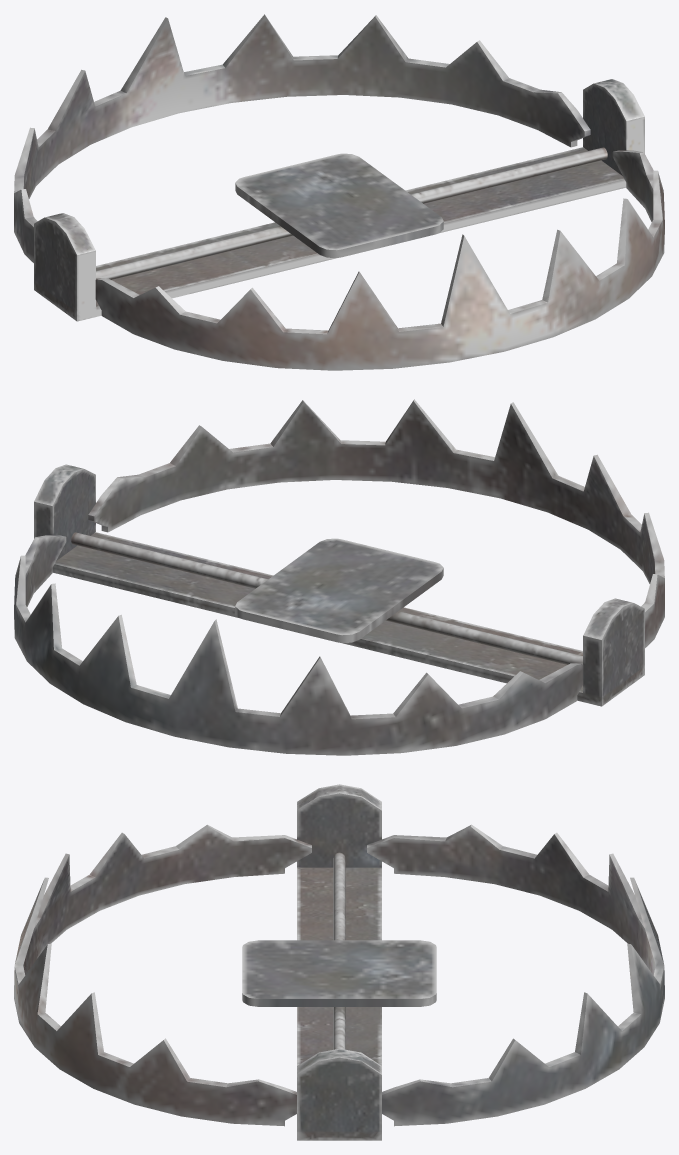
The model's file is 68_ELM_BearTrap.fbx.
3 renders of one model, top to bottom at view 1: azimuth 30°, elevation 25°; view 2: azimuth 150°, elevation 25°; view 3: azimuth 270°, elevation 25°, orthographic.
Visible parts, largest first — view 1: Bear_Trap; view 2: Bear_Trap; view 3: Bear_Trap.
Part boxes in pixels (x1,y1,x2,y2): Bear_Trap: (14,14,664,370); Bear_Trap: (14,399,664,755); Bear_Trap: (14,784,664,1140).
Size of the model in its own units: 2.07 by 0.4049 by 2.08.
1 material, 1 textured.
